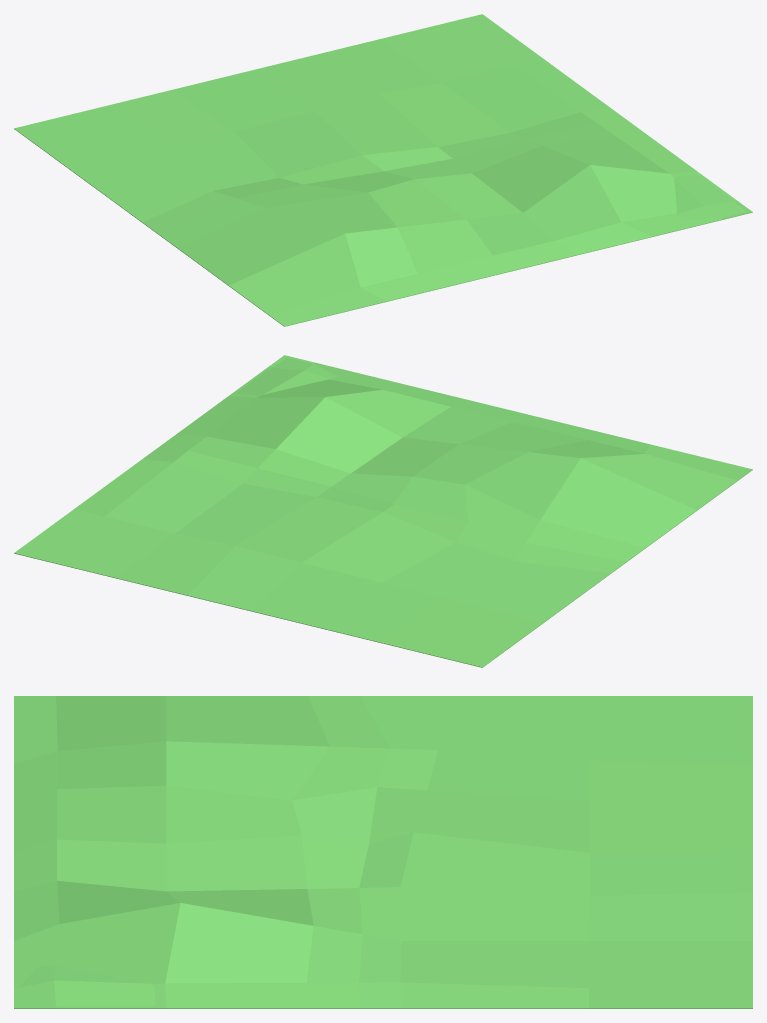
Rendered from map1.gltf.
3 renders of one model, top to bottom at view 1: azimuth 30°, elevation 25°; view 2: azimuth 150°, elevation 25°; view 3: azimuth 270°, elevation 25°, orthographic. The views are drawn at different scales.
Visible parts, largest first — view 1: Cube; view 2: Cube; view 3: Cube.
Part boxes in pixels (left/top/right/bottom): Cube: left=14, top=14, right=752, bottom=326; Cube: left=14, top=355, right=752, bottom=667; Cube: left=14, top=696, right=752, bottom=1008.
Bounding box in the file's own units: 200 × 11.41 × 200.
